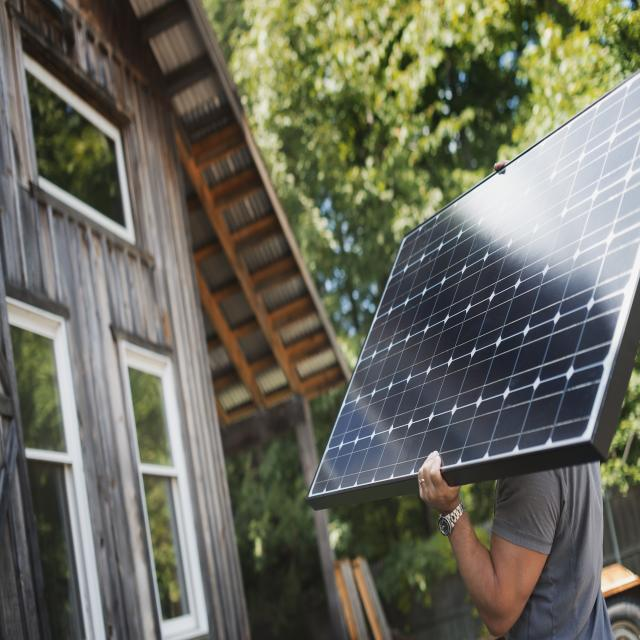clean-solar-panel: (310, 73, 640, 506)
